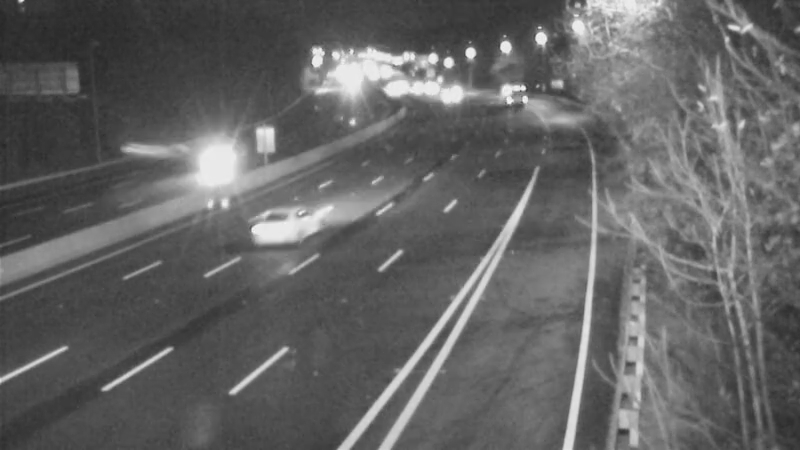vehicle: (233, 192, 313, 272), (173, 123, 253, 203), (492, 67, 542, 117)
